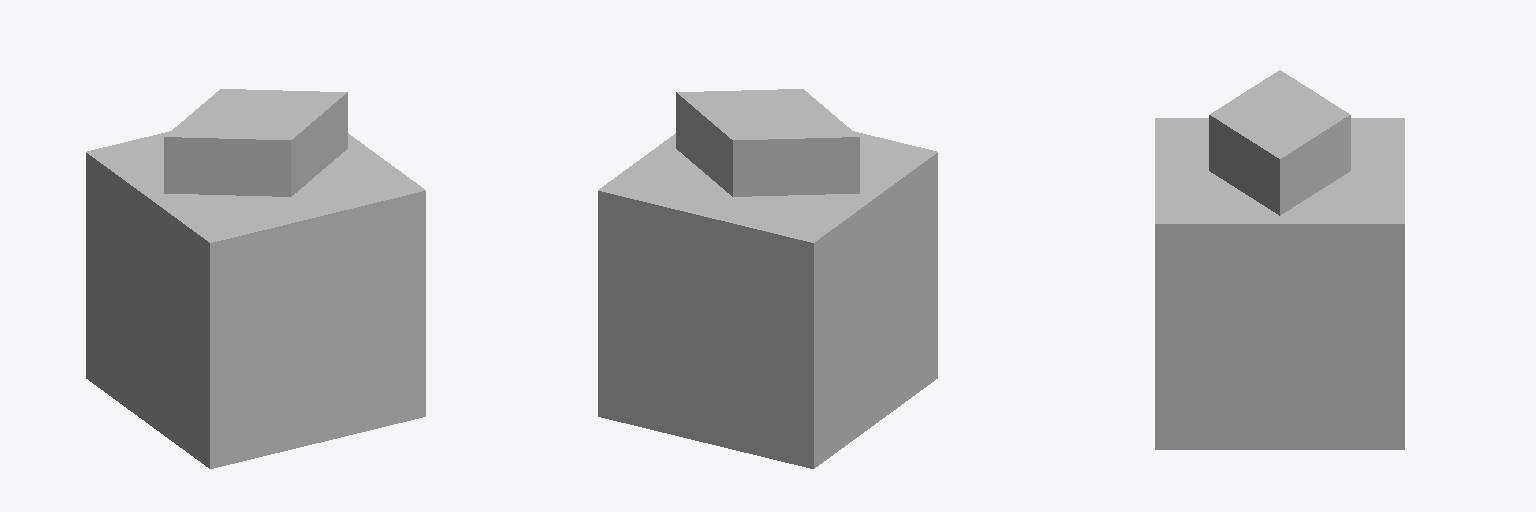
The model's file is Diamond_cube_cap.obj.
The picture shows the model from 3 angles: view 1: azimuth 30°, elevation 25°; view 2: azimuth 150°, elevation 25°; view 3: azimuth 270°, elevation 25°; orthographic projection.
Parts seen in each view (by area): view 1: Cap_Cube.004; view 2: Cap_Cube.004; view 3: Cap_Cube.004.
Boxes of the visible parts, box(x1,y1,x2,y2) form: Cap_Cube.004: box(86, 89, 425, 468); Cap_Cube.004: box(598, 89, 937, 468); Cap_Cube.004: box(1155, 70, 1404, 449).
Bounding box in the file's own units: 0.08 × 0.1 × 0.08.